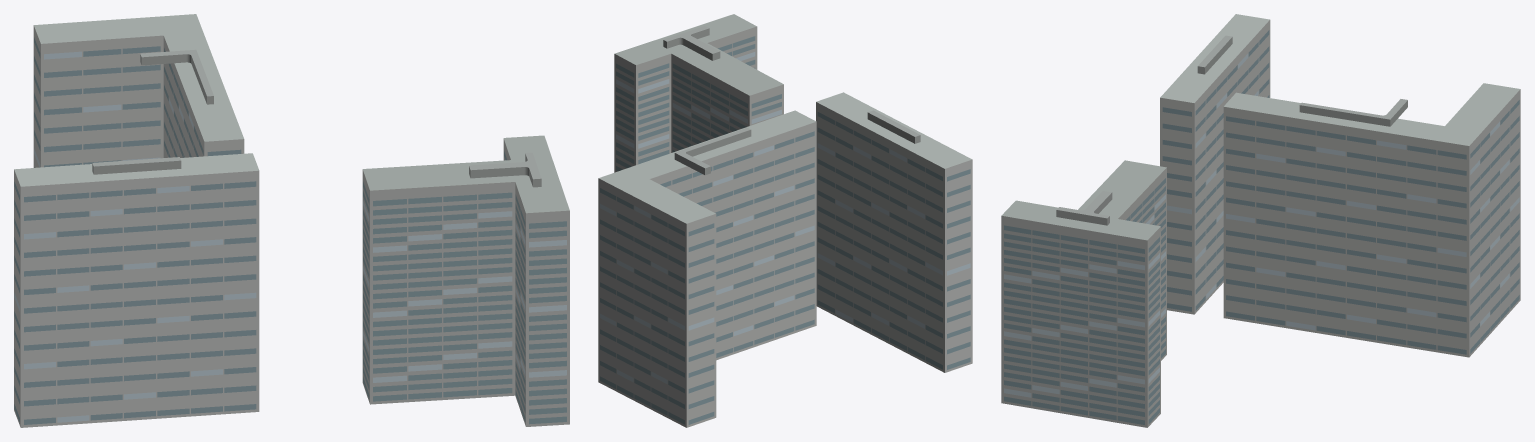
File: apt-a13606106.glb
3 renders of one model, left to right at view 1: azimuth 30°, elevation 25°; view 2: azimuth 150°, elevation 25°; view 3: azimuth 270°, elevation 25°, orthographic. The views are drawn at different scales.
Parts seen in each view (by area): view 1: apt-a13606106; view 2: apt-a13606106; view 3: apt-a13606106.
Boxes of the visible parts, x1,y1,x2,y2 form: apt-a13606106: [14, 14, 569, 427]; apt-a13606106: [598, 14, 972, 427]; apt-a13606106: [1001, 14, 1520, 427].
Bounding box in the file's own units: 145 × 73 × 157.
